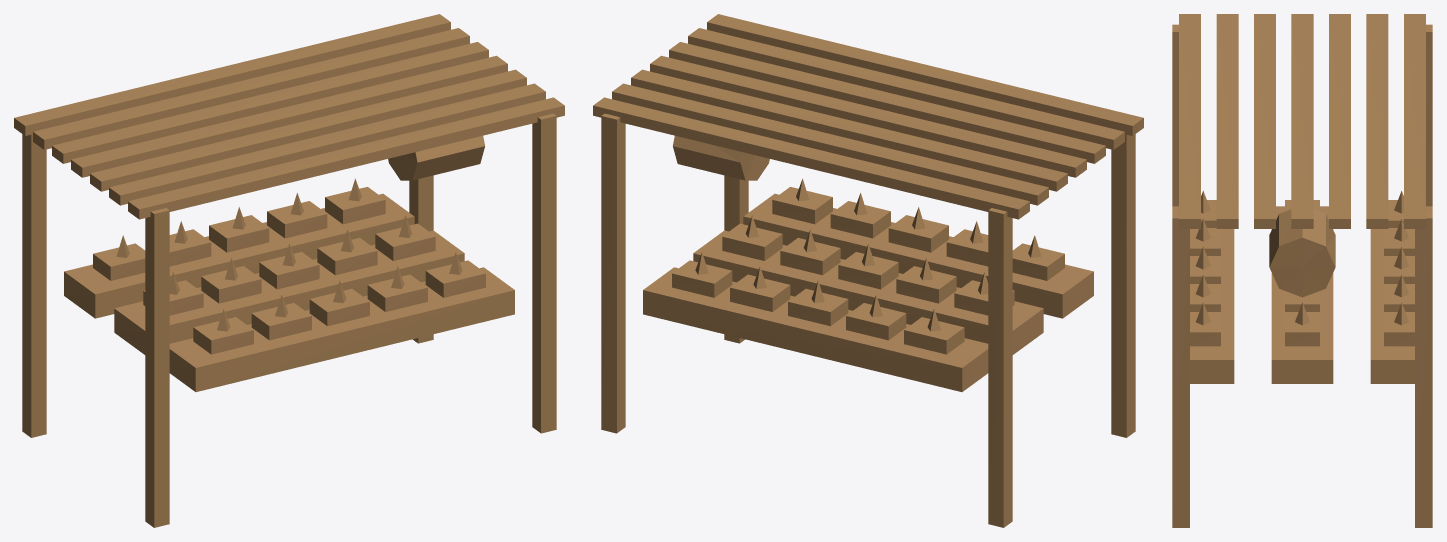
Rendered from nursery.source.glb.
3 views of the same model, side by side, from view 1: azimuth 30°, elevation 25°; view 2: azimuth 150°, elevation 25°; view 3: azimuth 270°, elevation 25° (orthographic).
Visible parts, largest first — view 1: nursery-canopy-slat-mesh (×7), nursery-bench-mesh (×3), nursery-frame-post-mesh (×4), nursery-seedling-tray-mesh (×15), nursery-header-tank-mesh; view 2: nursery-canopy-slat-mesh (×7), nursery-bench-mesh (×3), nursery-frame-post-mesh (×4), nursery-seedling-tray-mesh (×15), nursery-header-tank-mesh; view 3: nursery-canopy-slat-mesh (×7), nursery-frame-post-mesh (×4), nursery-bench-mesh (×3), nursery-seedling-tray-mesh (×12), nursery-header-tank-mesh.
Part boxes in pixels (x1,y1,x2,y2): nursery-canopy-slat-mesh (×7): [14, 14, 564, 219]; nursery-bench-mesh (×3): [64, 193, 514, 391]; nursery-frame-post-mesh (×4): [22, 113, 556, 527]; nursery-seedling-tray-mesh (×15): [93, 187, 485, 354]; nursery-header-tank-mesh: [388, 135, 484, 180]; nursery-canopy-slat-mesh (×7): [593, 14, 1143, 219]; nursery-bench-mesh (×3): [643, 193, 1093, 391]; nursery-frame-post-mesh (×4): [601, 113, 1135, 527]; nursery-seedling-tray-mesh (×15): [672, 187, 1064, 354]; nursery-header-tank-mesh: [673, 135, 769, 180]; nursery-canopy-slat-mesh (×7): [1179, 14, 1425, 228]; nursery-frame-post-mesh (×4): [1172, 24, 1432, 527]; nursery-bench-mesh (×3): [1172, 206, 1432, 383]; nursery-seedling-tray-mesh (×12): [1190, 200, 1414, 346]; nursery-header-tank-mesh: [1269, 209, 1335, 297].
Bounding box in the file's own units: 2.2 × 1.57 × 1.18.
